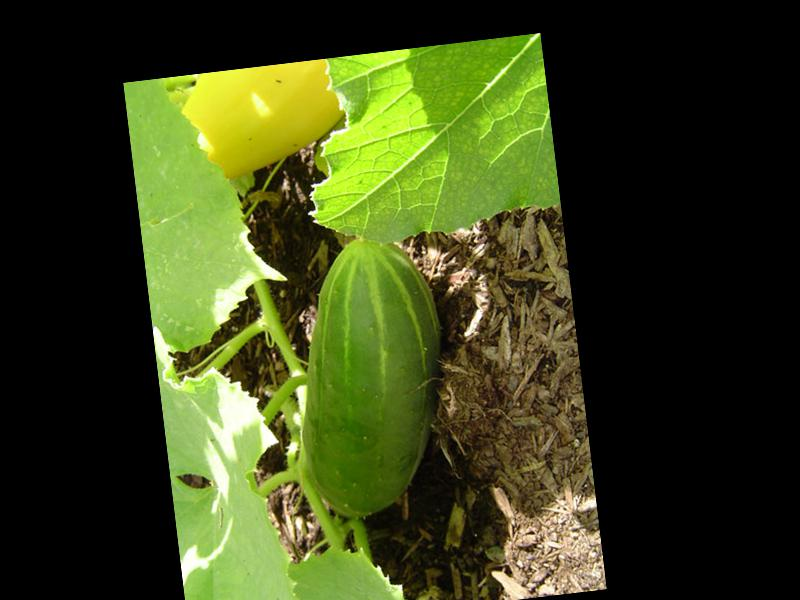Cucumber: (278, 229, 462, 524)
